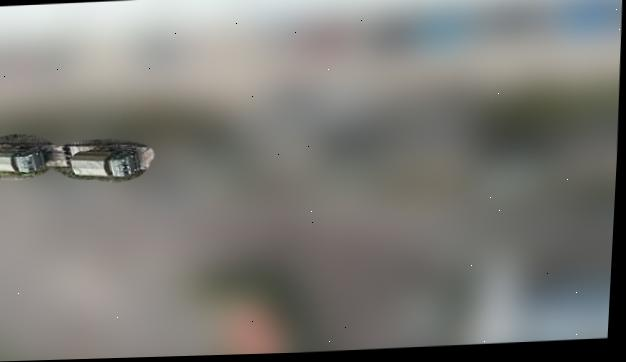truck: (67, 144, 141, 179), (0, 139, 48, 180)
